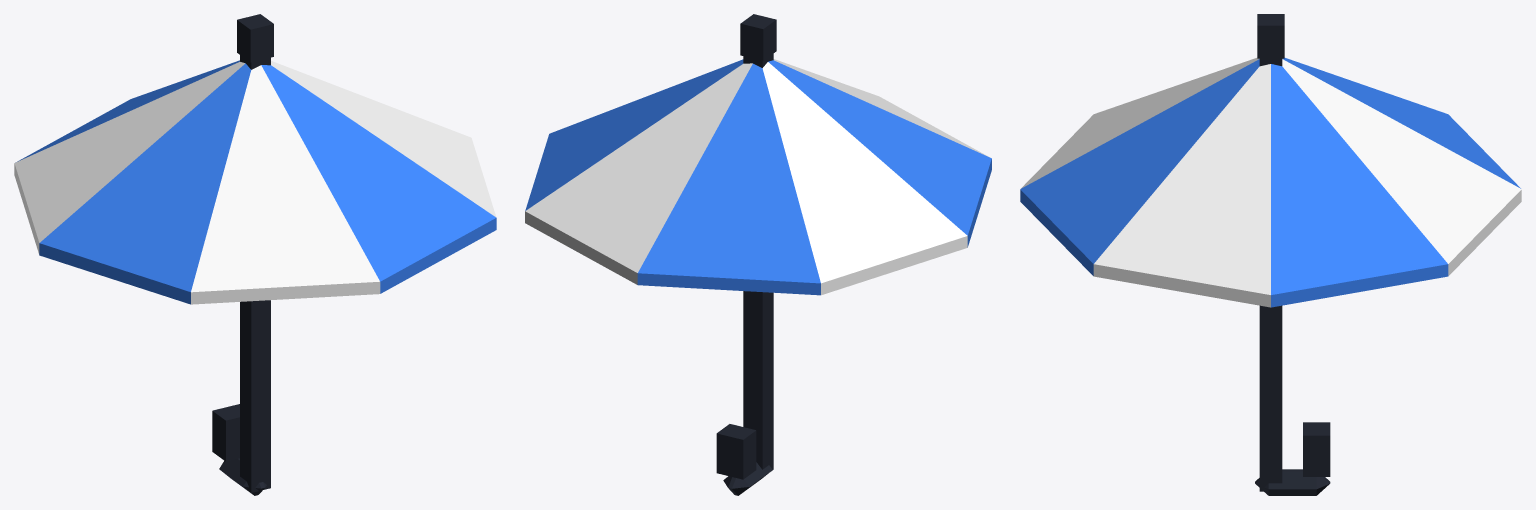
The model's file is umbrella.glb.
3 views of the same model, side by side, from view 1: azimuth 30°, elevation 25°; view 2: azimuth 150°, elevation 25°; view 3: azimuth 270°, elevation 25° (orthographic). The views are drawn at different scales.
Visible parts, largest first — view 1: umbrella; view 2: umbrella; view 3: umbrella.
Boxes of the visible parts, x1=… form: umbrella: x1=14, y1=14, x2=496, y2=495; umbrella: x1=525, y1=14, x2=991, y2=495; umbrella: x1=1020, y1=14, x2=1521, y2=495.
Bounding box in the file's own units: 1.1 × 1.15 × 1.1.
